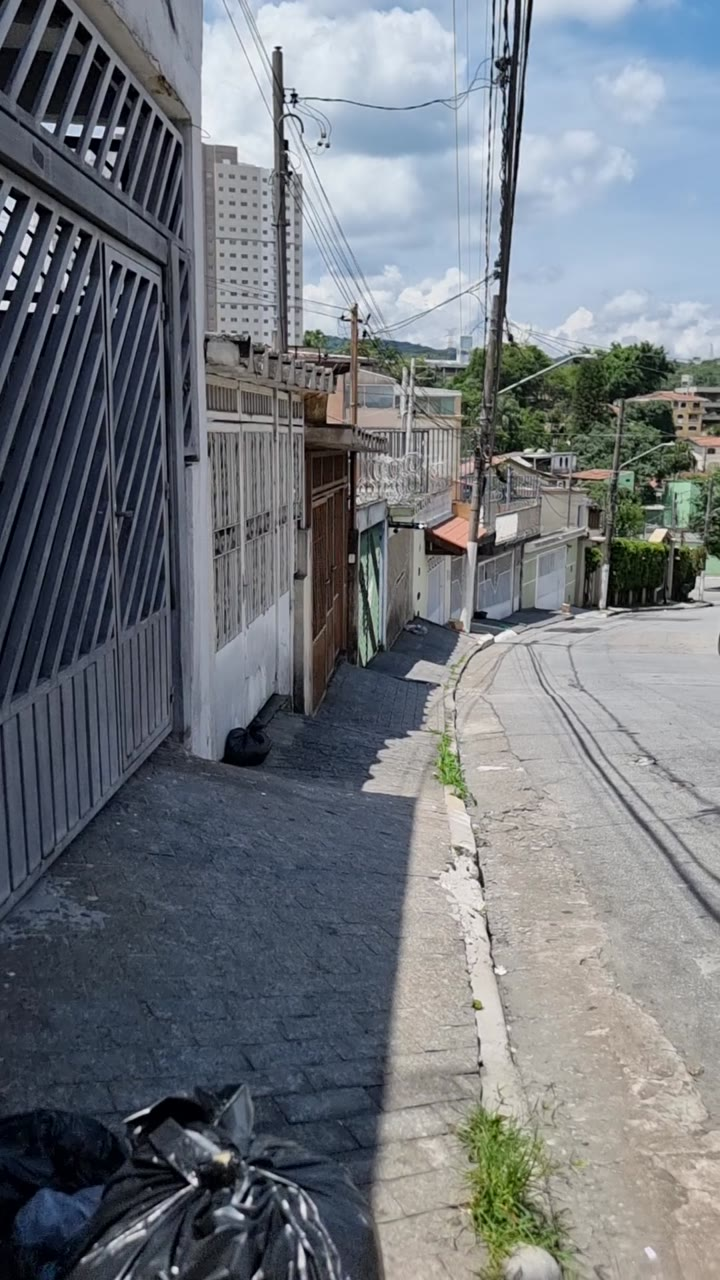obstaculo: (2, 1084, 386, 1280), (0, 1109, 125, 1280), (222, 726, 271, 766)
